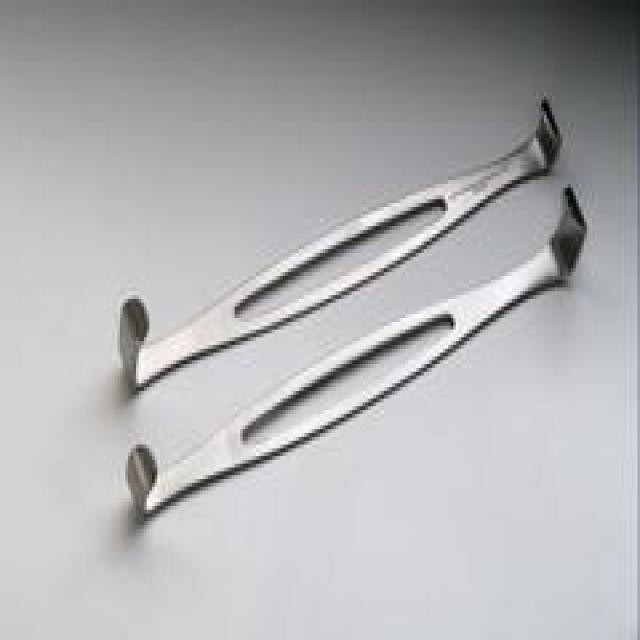Army_navy: (122, 176, 590, 525), (112, 88, 566, 399)
